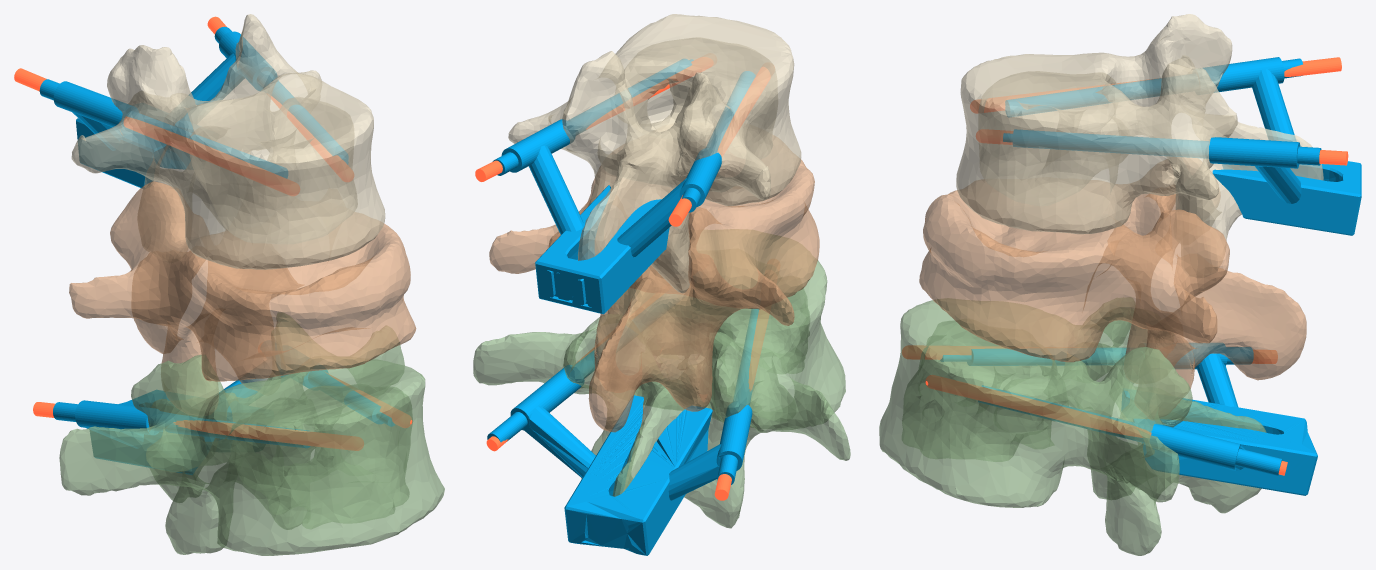
The picture shows the model from 3 angles, left to right: view 1: azimuth 30°, elevation 25°; view 2: azimuth 150°, elevation 25°; view 3: azimuth 270°, elevation 25°; orthographic projection. The views are drawn at different scales.
Visible parts, largest first — view 1: L3, L1, L2, Guide_L1, Guide_L3, Trajectoires; view 2: L3, L1, L2, Guide_L3, Guide_L1, Trajectoires; view 3: L3, L2, L1, Guide_L1, Guide_L3, Trajectoires.
Boxes of the visible parts, x1,y1,x2,y2 form: L3: [59, 313, 444, 555]; L1: [71, 14, 385, 269]; L2: [69, 181, 416, 415]; Guide_L1: [39, 26, 348, 188]; Guide_L3: [53, 370, 394, 474]; Trajectoires: [14, 16, 412, 450]; L3: [473, 229, 850, 528]; L1: [508, 14, 801, 293]; L2: [489, 135, 819, 432]; Guide_L3: [487, 309, 758, 555]; Guide_L1: [492, 59, 755, 314]; Trajectoires: [475, 57, 770, 500]; L3: [879, 297, 1266, 555]; L2: [919, 158, 1306, 420]; L1: [956, 14, 1323, 277]; Guide_L1: [1003, 57, 1361, 235]; Guide_L3: [940, 343, 1317, 495]; Trajectoires: [902, 57, 1348, 475].
Size of the model in its own units: 0.0936 by 0.1196 by 0.1091.
